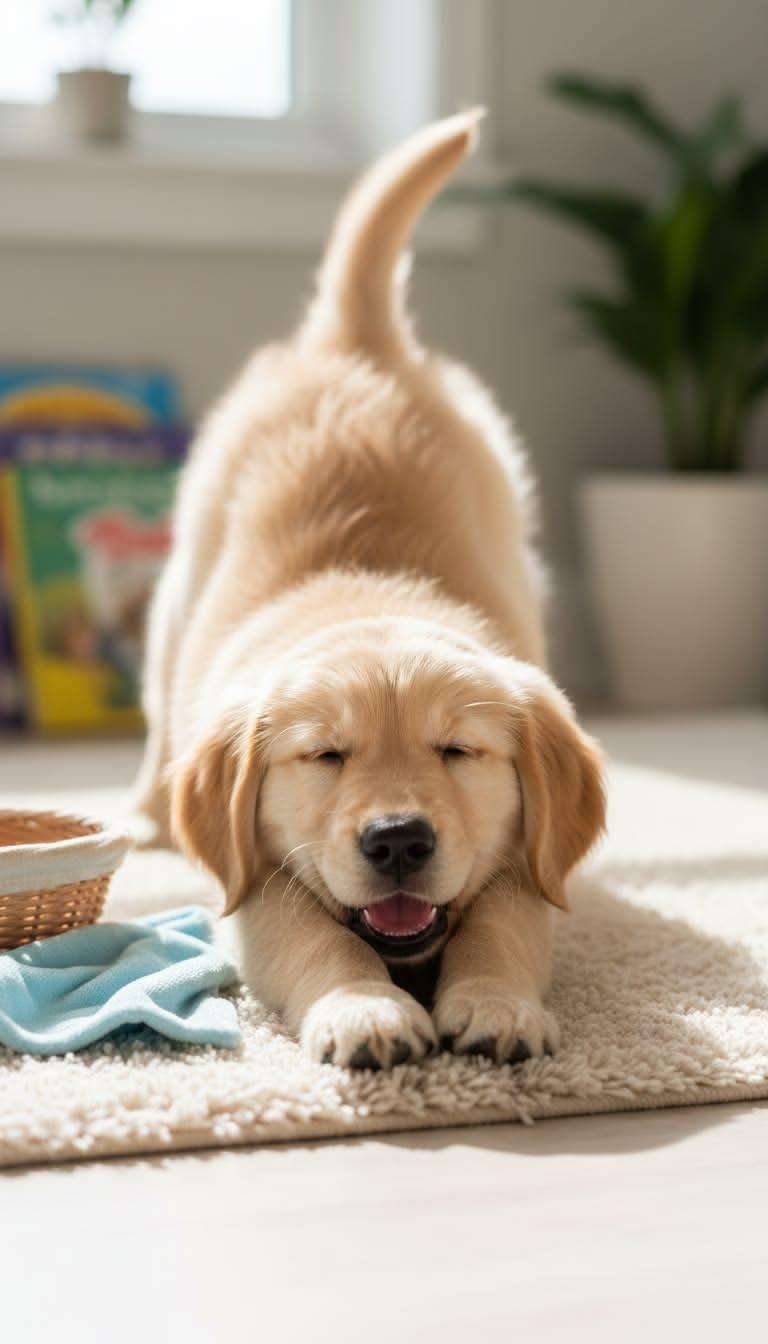puppy-dog: (128, 103, 614, 1078)
